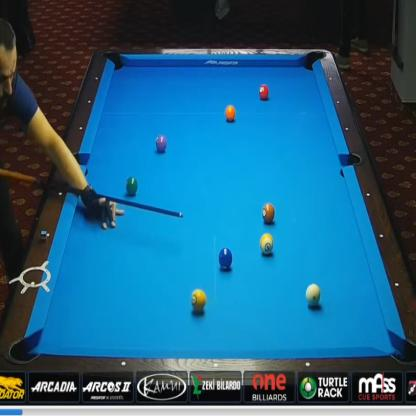Ball: (190, 288, 207, 314), (218, 247, 233, 272), (306, 283, 320, 308), (259, 233, 274, 255), (262, 203, 275, 224), (126, 176, 138, 196), (155, 135, 167, 153), (225, 105, 236, 122), (259, 84, 269, 101)
